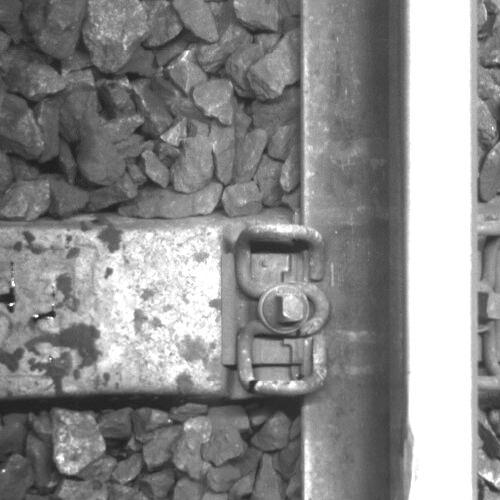rail: (403, 3, 478, 500)
tie_concr: (1, 226, 302, 389)
vossloh: (224, 223, 330, 396)
